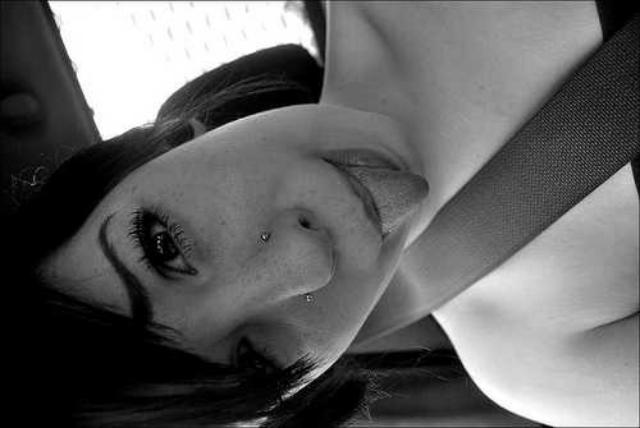Seatbelt: (346, 7, 640, 352)
